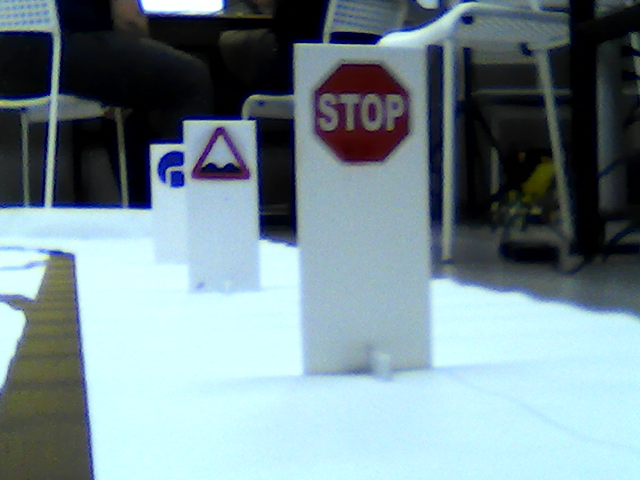Nerov: (189, 125, 253, 181)
Right: (155, 149, 184, 186)
Stop: (309, 56, 413, 169)
